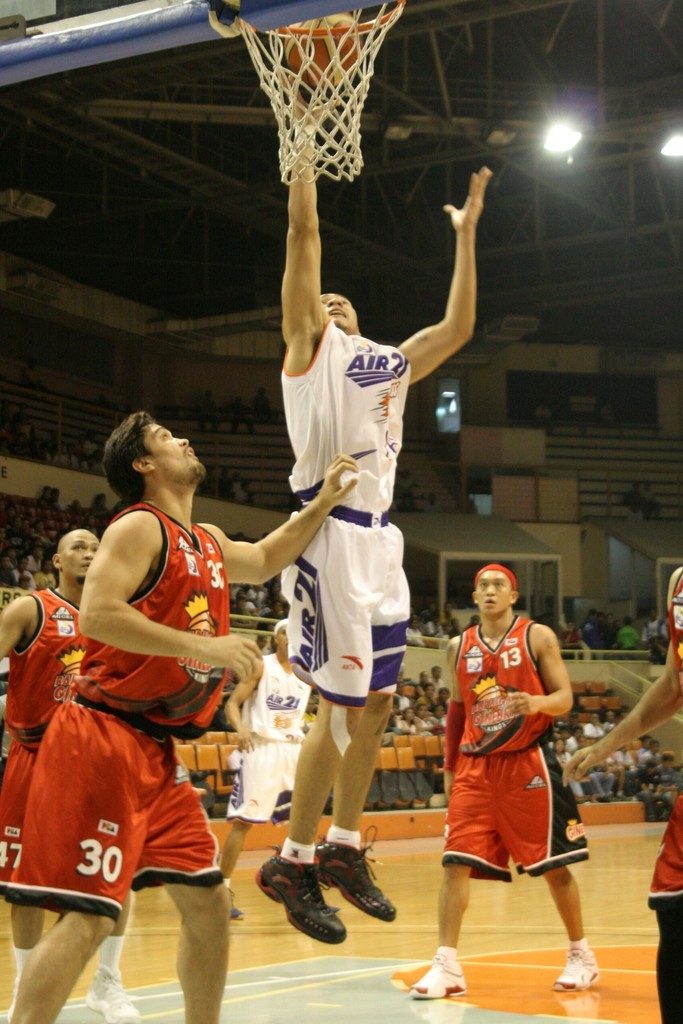Ball: (279, 6, 358, 85)
